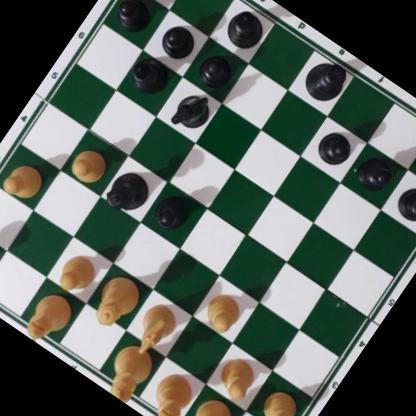black-bishop: (220, 2, 272, 54), (123, 50, 175, 101)
black-king: (298, 52, 355, 110)
black-knight: (168, 84, 217, 135)
black-pawn: (352, 149, 399, 196), (312, 123, 359, 170), (155, 17, 201, 64), (150, 188, 196, 235), (194, 45, 240, 91), (111, 0, 158, 35), (391, 178, 416, 229)
black-queen: (100, 164, 155, 220)
black-rook: (131, 0, 193, 0)
white-bishop: (17, 286, 81, 353), (140, 367, 201, 416)
white-king: (96, 336, 161, 406)
white-knight: (126, 297, 184, 360)
white-pawn: (64, 139, 115, 190), (198, 285, 248, 336), (52, 248, 102, 299), (0, 155, 49, 205), (255, 383, 307, 416)
white-queen: (87, 269, 146, 333)
white-rook: (177, 394, 244, 416)
